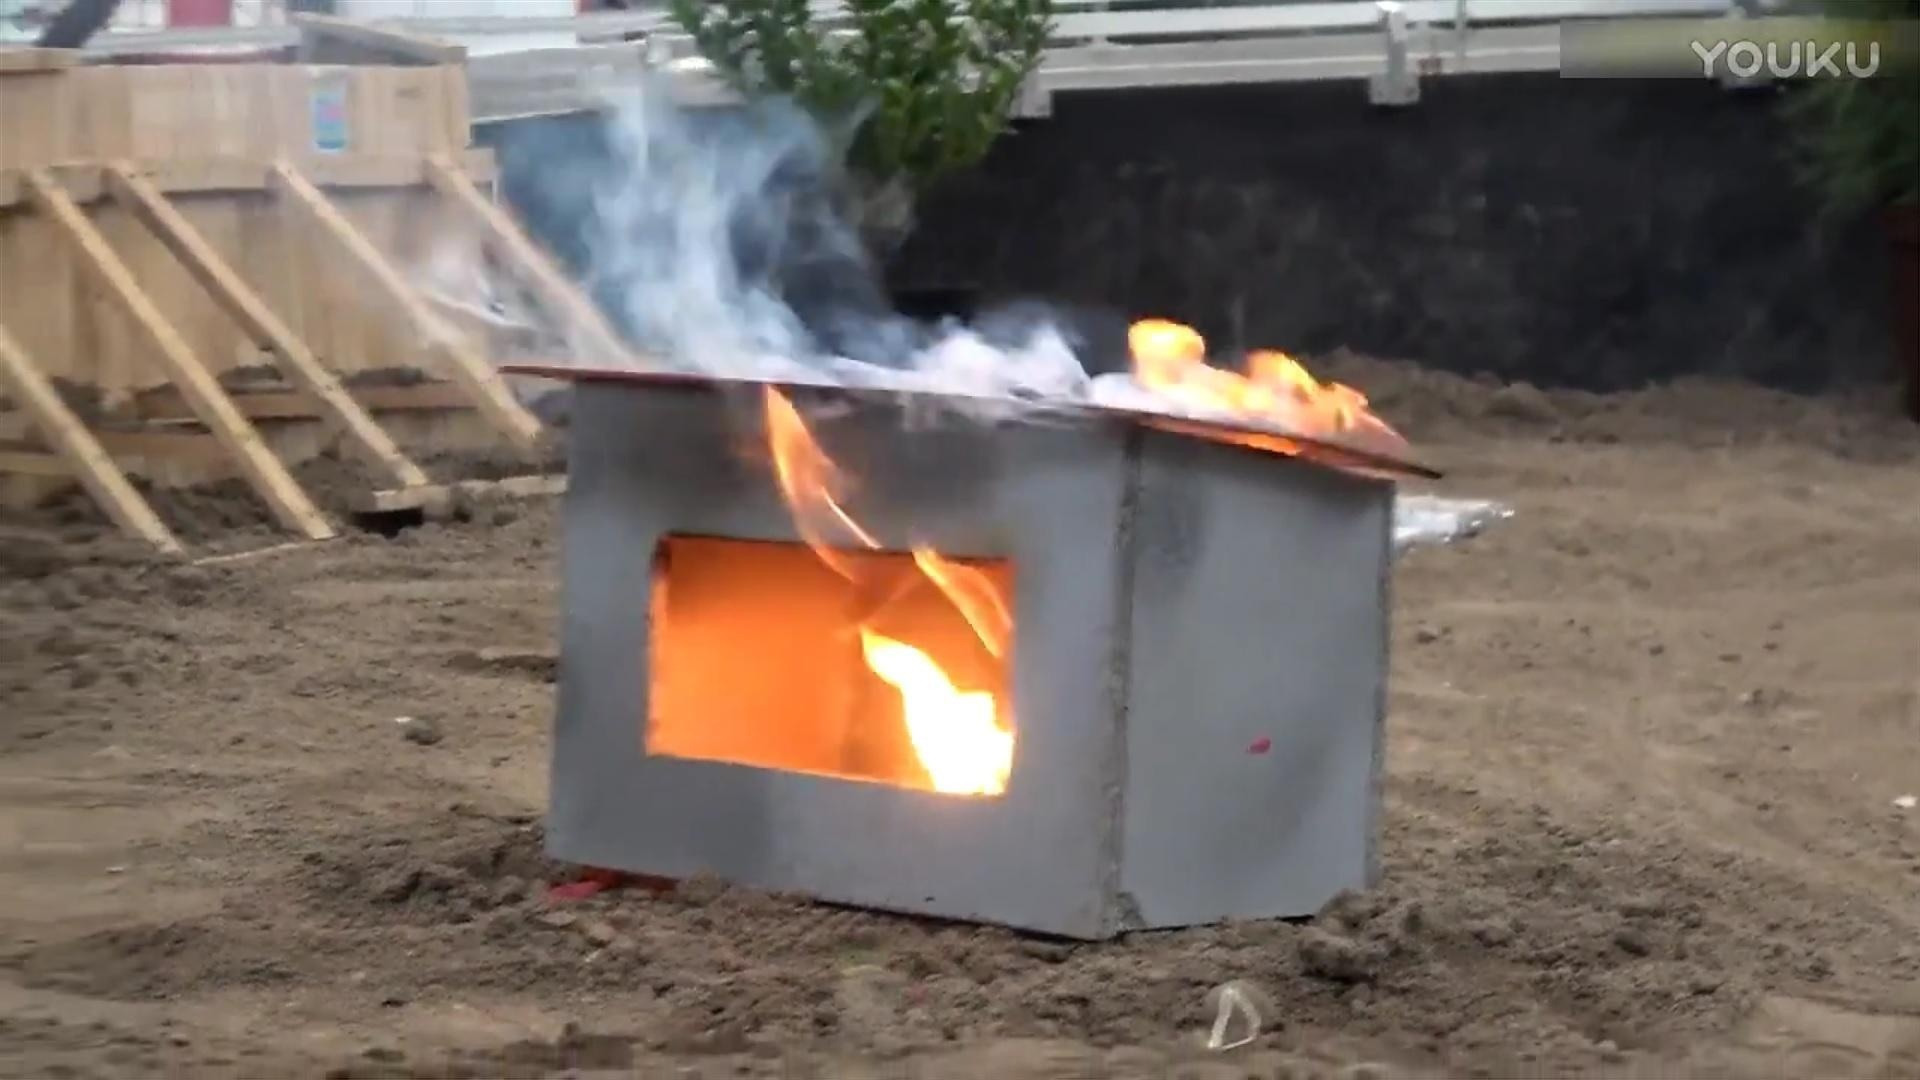fire: (1122, 315, 1383, 454), (857, 624, 1014, 790)
